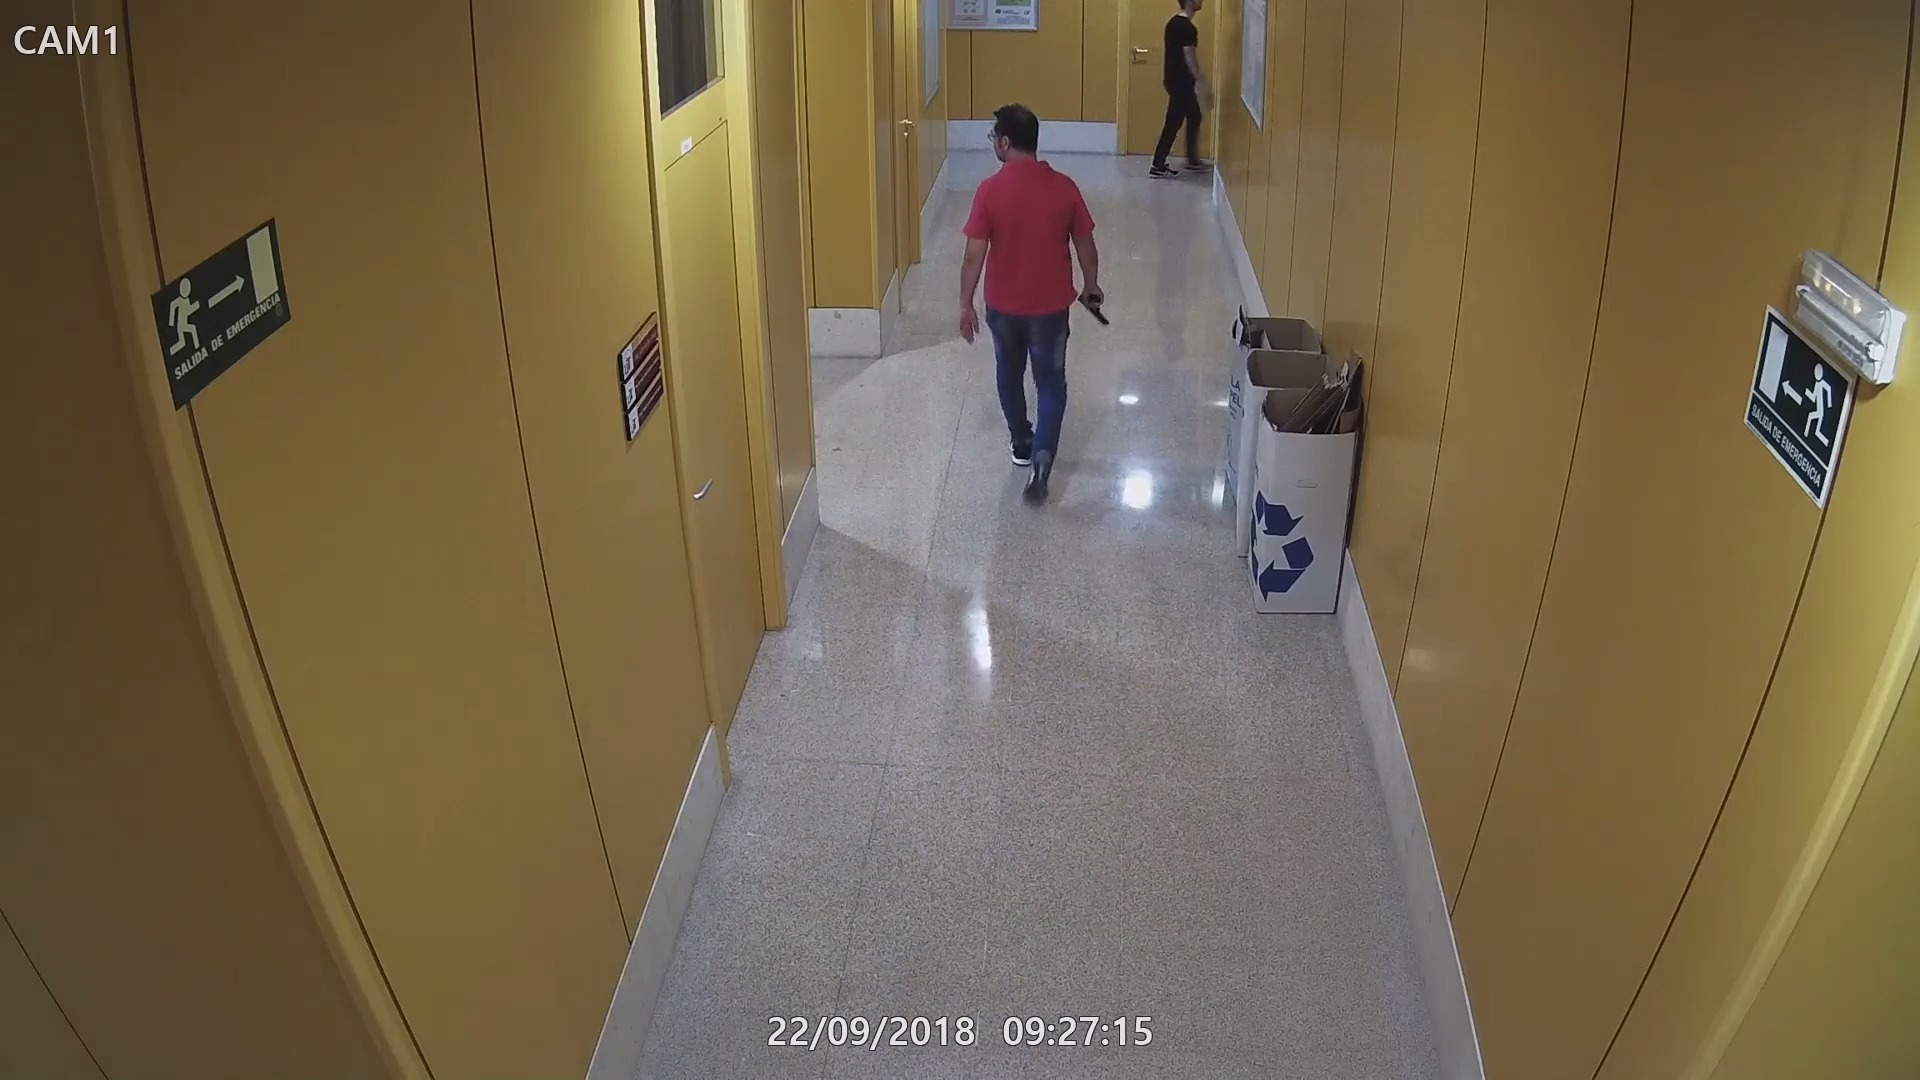Handgun: (1075, 286, 1113, 328), (1193, 84, 1213, 113)
